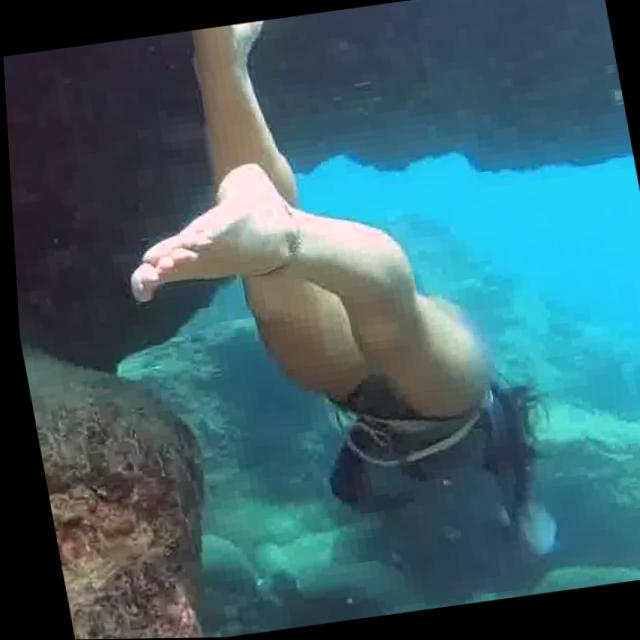human: (73, 0, 569, 614)
